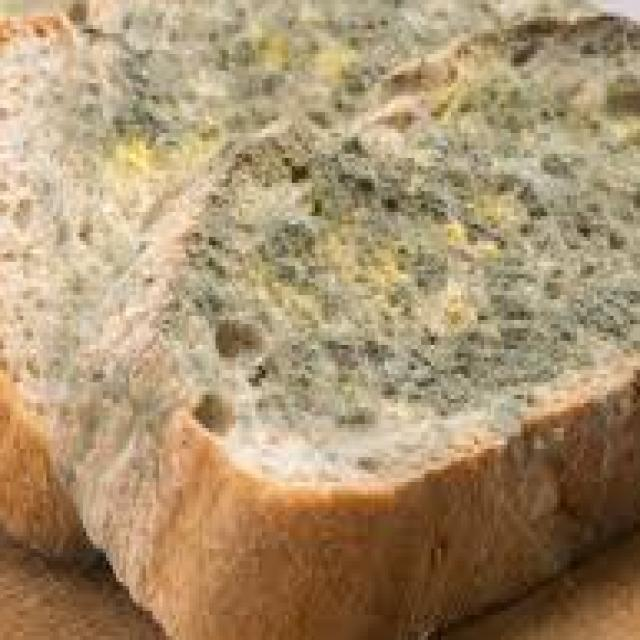inorganic: (5, 0, 631, 634)
